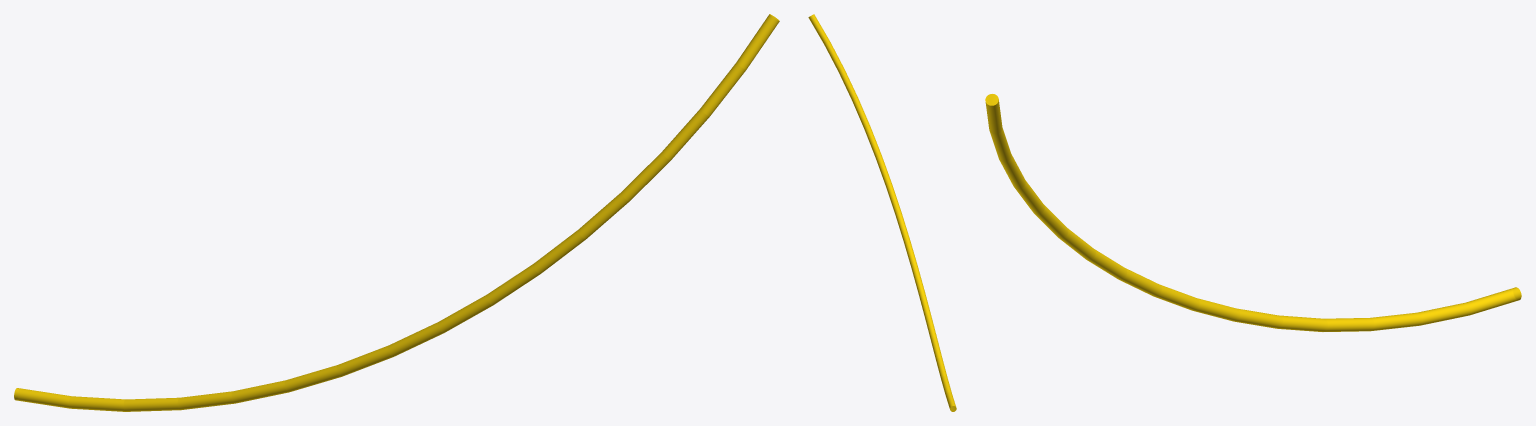
The model's file is Event_420094457_track_10.fbx.
3 renders of one model, left to right at view 1: azimuth 30°, elevation 25°; view 2: azimuth 150°, elevation 25°; view 3: azimuth 270°, elevation 25°, orthographic. The views are drawn at different scales.
Visible parts, largest first — view 1: Model; view 2: Model; view 3: Model.
Part boxes in pixels (x1,y1,x2,y2): Model: (14,14,779,411); Model: (808,14,956,411); Model: (985,94,1521,331).
Size of the model in its own units: 1.91 by 1.54 by 1.59.
